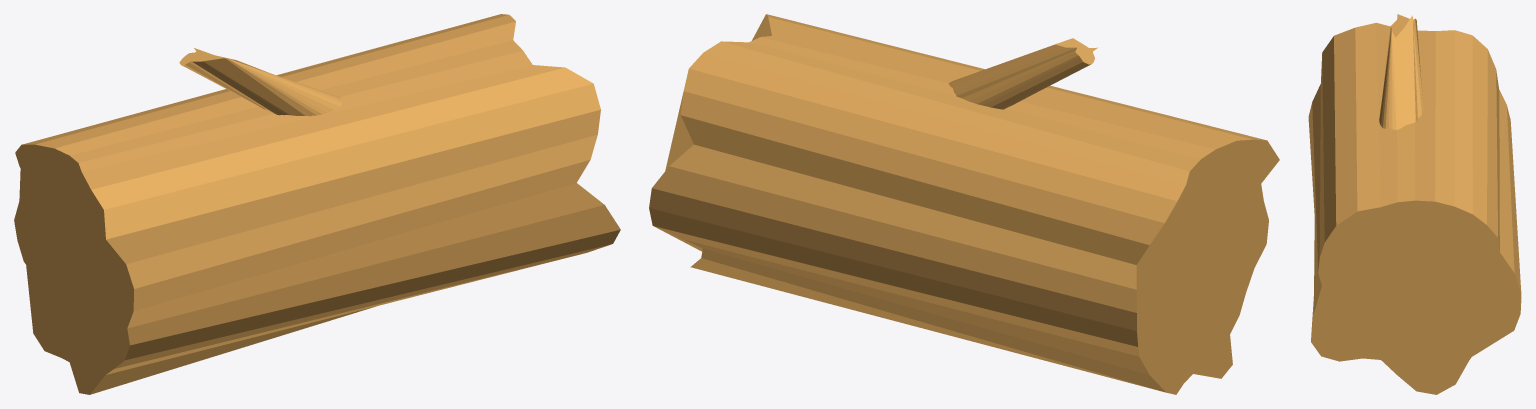
File: Madeira.fbx
The picture shows the model from 3 angles, left to right: view 1: azimuth 30°, elevation 25°; view 2: azimuth 150°, elevation 25°; view 3: azimuth 270°, elevation 25°; orthographic projection. The views are drawn at different scales.
Visible parts, largest first — view 1: Cilindro, Cilindro.001; view 2: Cilindro, Cilindro.001; view 3: Cilindro, Cilindro.001.
Boxes of the visible parts, left/top/right/bottom form: Cilindro: left=14, top=14, right=620, bottom=394; Cilindro.001: left=179, top=48, right=342, bottom=116; Cilindro: left=649, top=14, right=1279, bottom=394; Cilindro.001: left=948, top=38, right=1097, bottom=109; Cilindro: left=1308, top=22, right=1521, bottom=394; Cilindro.001: left=1379, top=14, right=1423, bottom=130.
Size of the model in its own units: 529 by 303 by 237.
